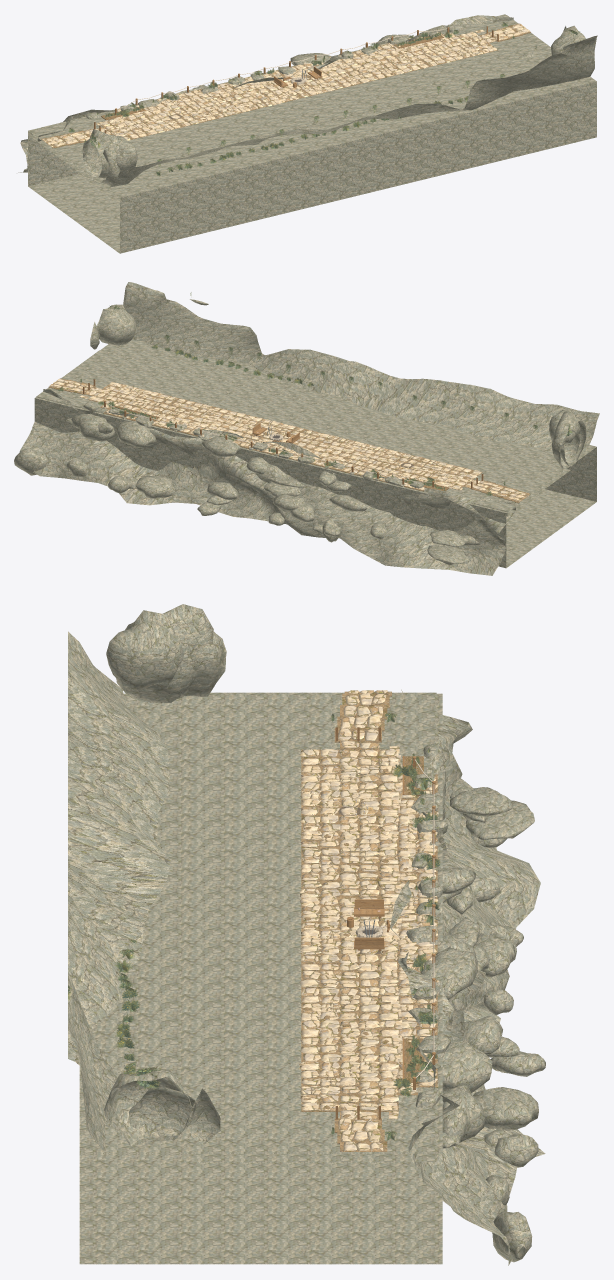
The model's file is retreat_global_a1_context.glb.
3 renders of one model, top to bottom at view 1: azimuth 30°, elevation 25°; view 2: azimuth 150°, elevation 25°; view 3: azimuth 270°, elevation 25°, orthographic. The views are drawn at different scales.
Parts seen in each view (by area): view 1: a1:static:a1:coastal-cliff-v10, a1:ridge:continuation, a1:static:a1:plaza-v6, a1:static:a1:plaza-warm-v6, a1:static:a1:earth-v6, a1:static:a1:plaza-moss-v6, a1:static:a1:plaza-cool-v6, a1:static:small-props, a1:static:a1:painted-foliage-v6, a1:static:a1:painted-foliage-dark-v6, a1:static:a1:painted-foliage-flower-v6, a1:static:a1:painted-foliage-sage-v6; view 2: a1:ridge:continuation, a1:static:a1:coastal-cliff-v10, a1:static:a1:earth-v6, a1:static:a1:plaza-v6, a1:static:a1:plaza-moss-v6, a1:static:a1:plaza-warm-v6, a1:static:a1:plaza-cool-v6, a1:static:small-props, a1:static:a1:painted-foliage-v6, a1:static:a1:painted-foliage-dark-v6; view 3: a1:static:a1:coastal-cliff-v10, a1:ridge:continuation, a1:static:a1:plaza-v6, a1:static:a1:earth-v6, a1:static:a1:plaza-warm-v6, a1:static:a1:plaza-moss-v6, a1:static:a1:plaza-cool-v6, a1:static:small-props, a1:static:a1:painted-foliage-dark-v6, a1:static:a1:painted-foliage-v6, a1:static:a1:painted-foliage-sage-v6, a1:static:a1:painted-foliage-flower-v6 (+1 smaller).
Boxes of the visible parts, bbox=[...] form: a1:static:a1:coastal-cliff-v10: bbox=[28, 14, 596, 253]; a1:ridge:continuation: bbox=[18, 15, 597, 187]; a1:static:a1:plaza-v6: bbox=[50, 23, 522, 146]; a1:static:a1:plaza-warm-v6: bbox=[46, 31, 520, 144]; a1:static:a1:earth-v6: bbox=[41, 23, 530, 148]; a1:static:a1:plaza-moss-v6: bbox=[54, 26, 525, 146]; a1:static:a1:plaza-cool-v6: bbox=[42, 28, 529, 143]; a1:static:small-props: bbox=[94, 26, 498, 133]; a1:static:a1:painted-foliage-v6: bbox=[84, 32, 531, 175]; a1:static:a1:painted-foliage-dark-v6: bbox=[105, 35, 468, 170]; a1:static:a1:painted-foliage-flower-v6: bbox=[108, 32, 452, 168]; a1:static:a1:painted-foliage-sage-v6: bbox=[68, 22, 507, 172]; a1:ridge:continuation: bbox=[14, 282, 599, 575]; a1:static:a1:coastal-cliff-v10: bbox=[34, 339, 596, 568]; a1:static:a1:earth-v6: bbox=[48, 378, 530, 503]; a1:static:a1:plaza-v6: bbox=[49, 383, 529, 497]; a1:static:a1:plaza-moss-v6: bbox=[53, 381, 525, 495]; a1:static:a1:plaza-warm-v6: bbox=[68, 381, 525, 500]; a1:static:a1:plaza-cool-v6: bbox=[56, 379, 522, 501]; a1:static:small-props: bbox=[83, 379, 483, 488]; a1:static:a1:painted-foliage-v6: bbox=[80, 335, 537, 485]; a1:static:a1:painted-foliage-dark-v6: bbox=[123, 352, 444, 489]; a1:static:a1:coastal-cliff-v10: bbox=[79, 692, 451, 1264]; a1:ridge:continuation: bbox=[68, 604, 545, 1265]; a1:static:a1:plaza-v6: bbox=[298, 690, 438, 1151]; a1:static:a1:earth-v6: bbox=[301, 691, 437, 1151]; a1:static:a1:plaza-warm-v6: bbox=[298, 690, 438, 1141]; a1:static:a1:plaza-moss-v6: bbox=[299, 695, 438, 1151]; a1:static:a1:plaza-cool-v6: bbox=[300, 690, 436, 1151]; a1:static:small-props: bbox=[335, 727, 435, 1119]; a1:static:a1:painted-foliage-dark-v6: bbox=[115, 753, 440, 1074]; a1:static:a1:painted-foliage-v6: bbox=[117, 714, 437, 1134]; a1:static:a1:painted-foliage-sage-v6: bbox=[118, 713, 432, 1140]; a1:static:a1:painted-foliage-flower-v6: bbox=[115, 758, 435, 1088].
Bounding box in the file's own units: 84 × 19.39 × 36.88.
Materials: 24 (18 with a texture image).
